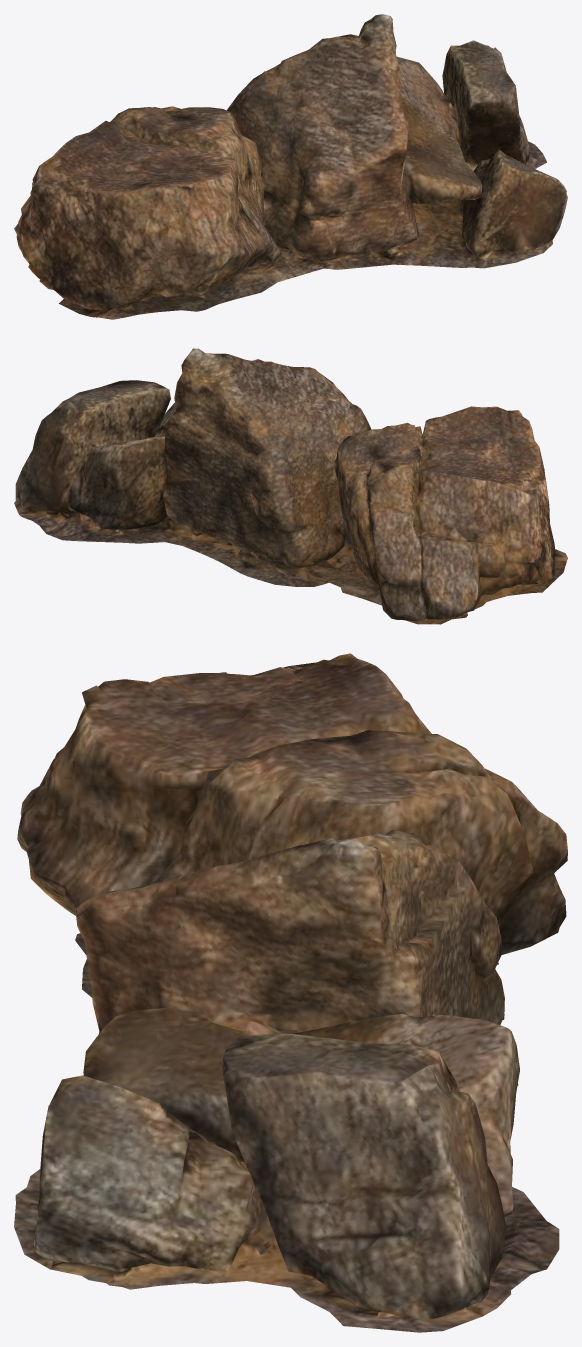
Rendered from namaqualand_boulder_02.gltf.
3 renders of one model, top to bottom at view 1: azimuth 30°, elevation 25°; view 2: azimuth 150°, elevation 25°; view 3: azimuth 270°, elevation 25°, orthographic. The views are drawn at different scales.
Parts seen in each view (by area): view 1: boulder_02; view 2: boulder_02; view 3: boulder_02.
Boxes of the visible parts, left/top/right/bottom form: boulder_02: left=14, top=14, right=567, bottom=319; boulder_02: left=14, top=348, right=567, bottom=624; boulder_02: left=14, top=653, right=567, bottom=1332.
Bounding box in the file's own units: 2.52 × 0.8804 × 1.23.
1 material, 1 textured.
